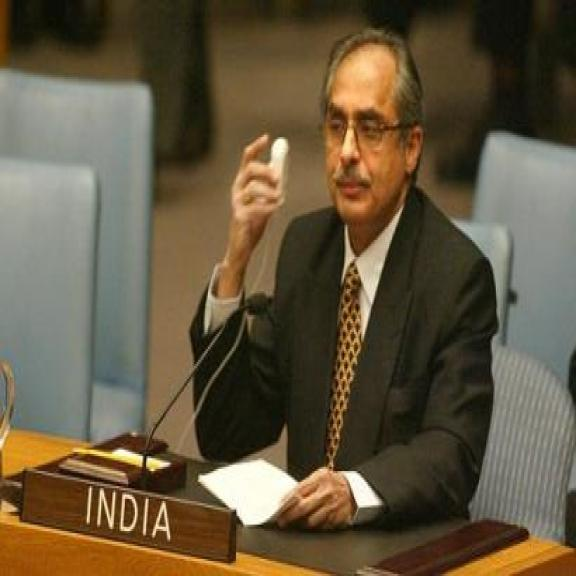face: (319, 62, 428, 230)
